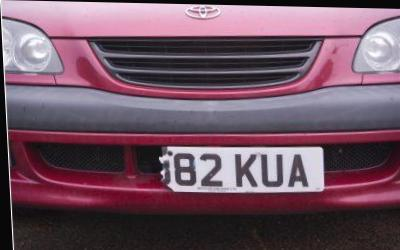License_Plate: (147, 140, 338, 198)
